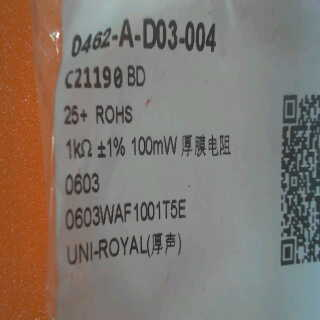1kR: (59, 134, 94, 164)
